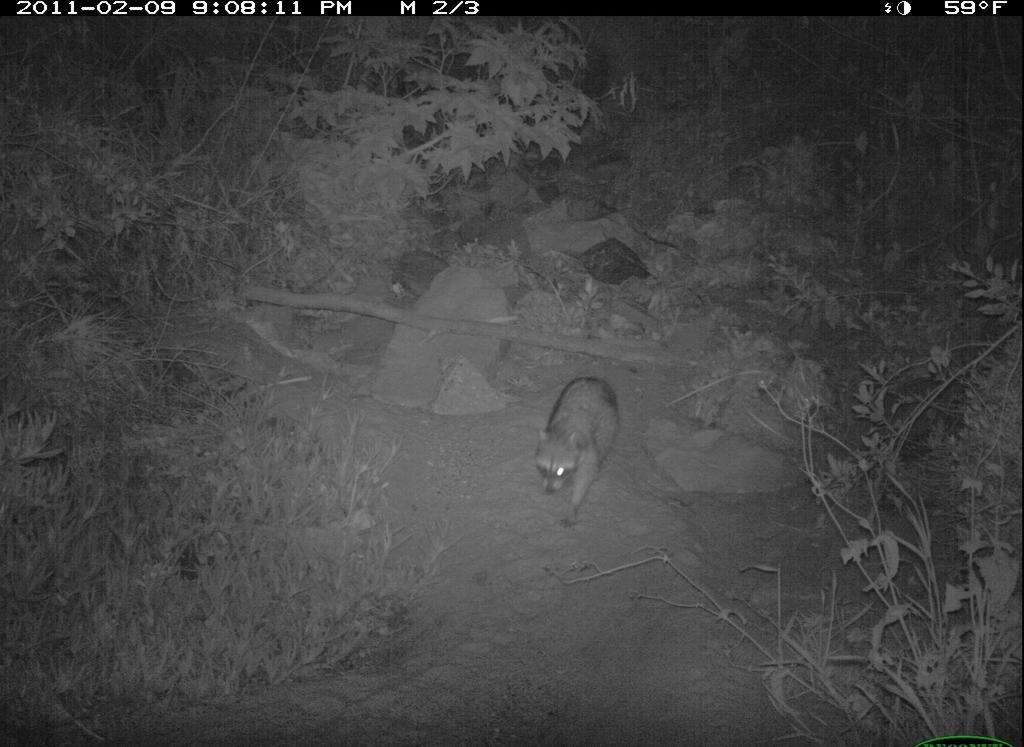raccoon: (529, 363, 628, 521)
